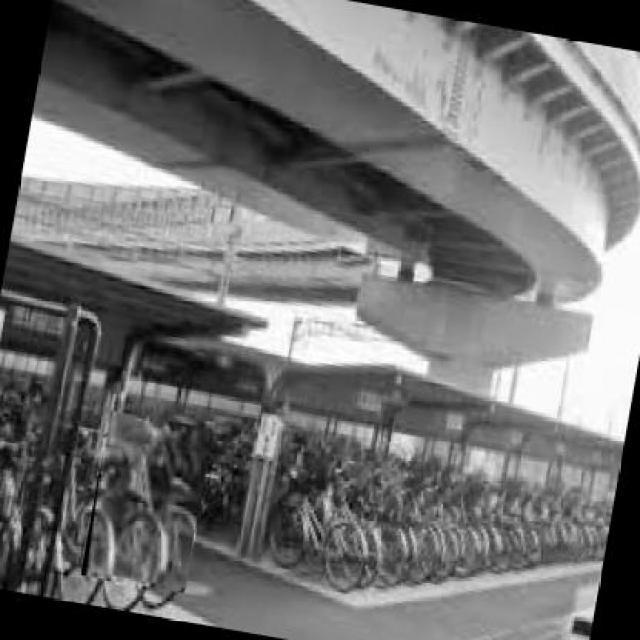bicycle: (79, 414, 213, 596)
